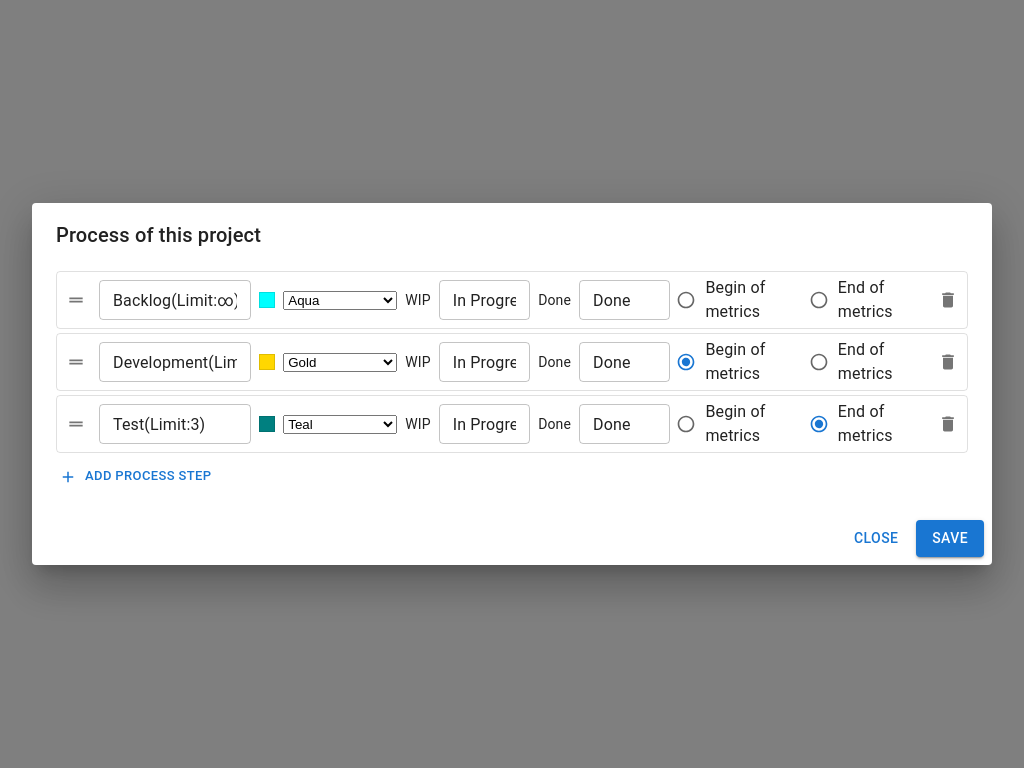
it: selecting a second start-of-cycle radio moves the first (radio invariant)
Expected: the field with test id "step-name-0" is shown, x1=99 y1=280 x2=251 y2=320
Expected: the 2nd radio button labelled "Begin of metrics" is checked, x1=676 y1=340 x2=765 y2=383
Click the 3rd radio button labelled "Begin of metrics".
click(721, 424)  # box x1=676 y1=402 x2=765 y2=445
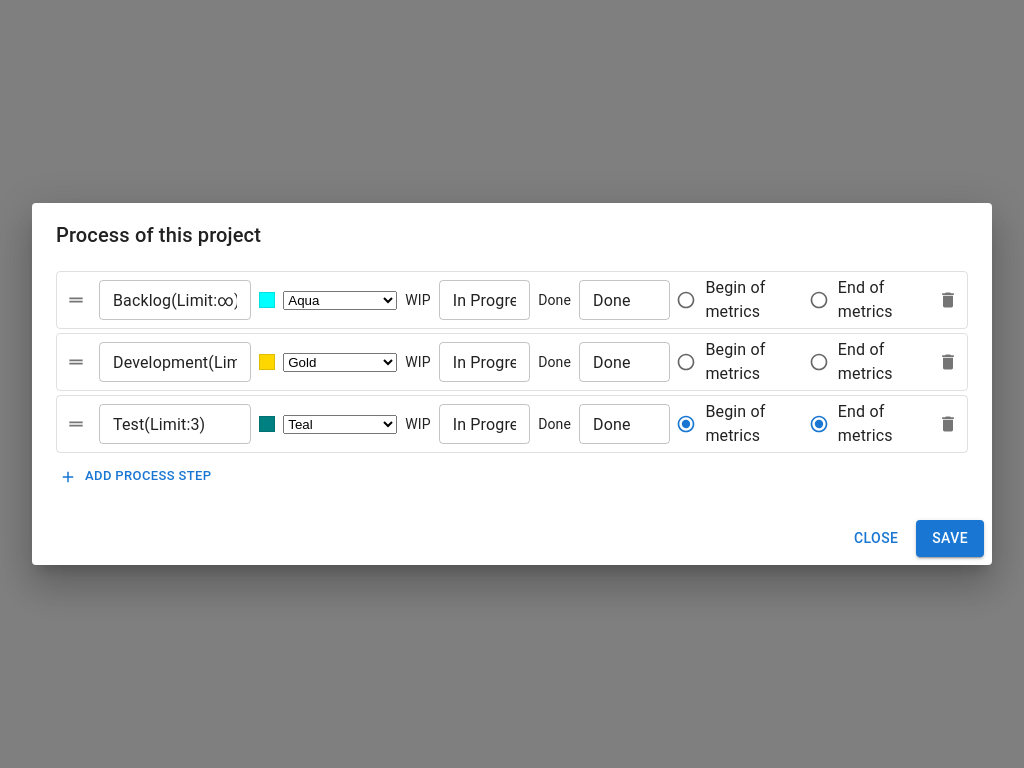
Expected: the 3rd radio button labelled "End of metrics" is checked, x1=809 y1=402 x2=893 y2=445
Result: the 3rd radio button labelled "Begin of metrics" is checked at x1=676 y1=402 x2=765 y2=445
Result: the 2nd radio button labelled "Begin of metrics" is not checked at x1=676 y1=340 x2=765 y2=383
Click the 1st radio button labelled "End of metrics".
click(851, 300)  # box x1=809 y1=278 x2=893 y2=321
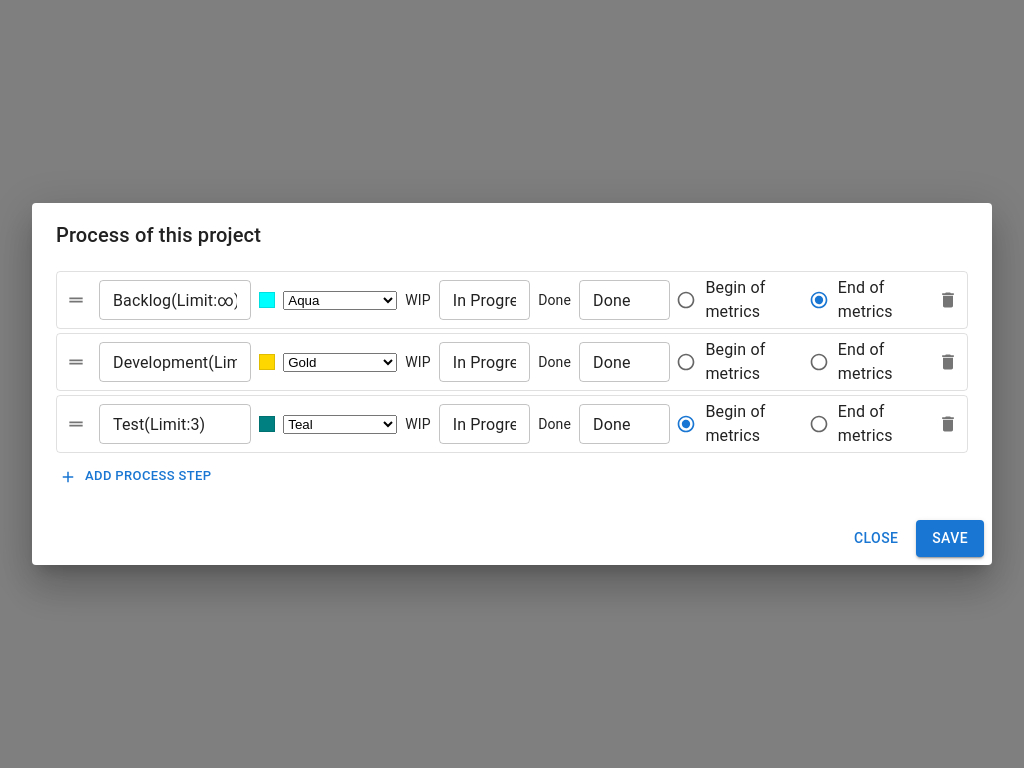
Result: the 1st radio button labelled "End of metrics" is checked at x1=809 y1=278 x2=893 y2=321
Result: the 3rd radio button labelled "End of metrics" is not checked at x1=809 y1=402 x2=893 y2=445
